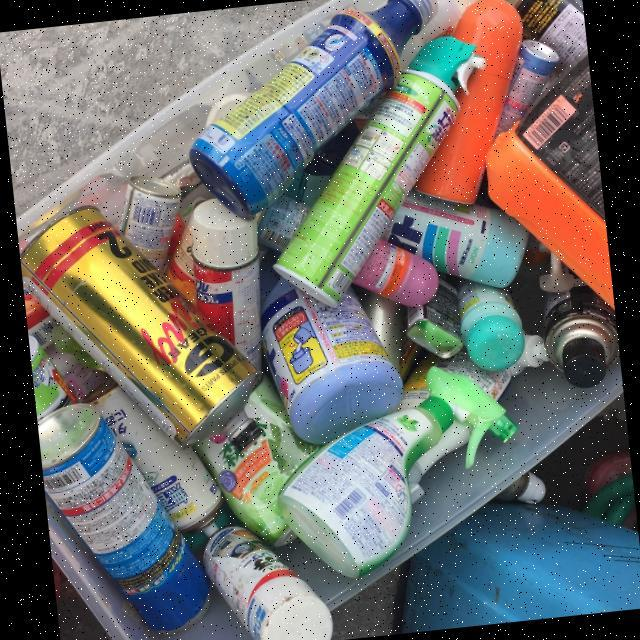chemical_spray_can: (273, 35, 483, 306)
